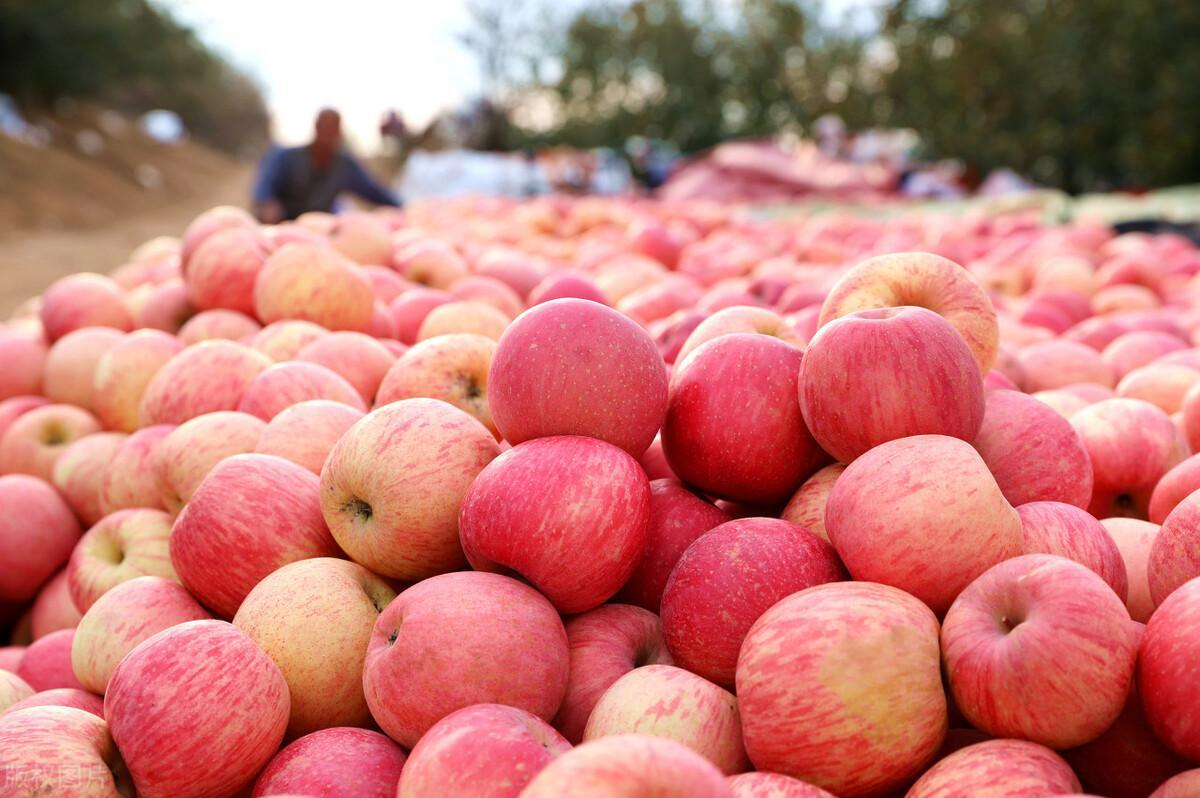apple: (735, 580, 950, 781), (941, 553, 1135, 746), (457, 438, 659, 614), (361, 573, 567, 738), (823, 431, 1028, 595), (314, 398, 502, 575), (104, 619, 291, 796), (485, 294, 670, 461), (662, 328, 820, 512), (662, 516, 841, 678), (797, 310, 991, 456), (232, 560, 396, 729), (169, 455, 338, 612), (820, 248, 997, 382), (393, 707, 573, 798), (1067, 391, 1191, 519), (562, 603, 673, 741), (367, 337, 504, 439), (67, 510, 187, 613), (1, 403, 110, 487)
